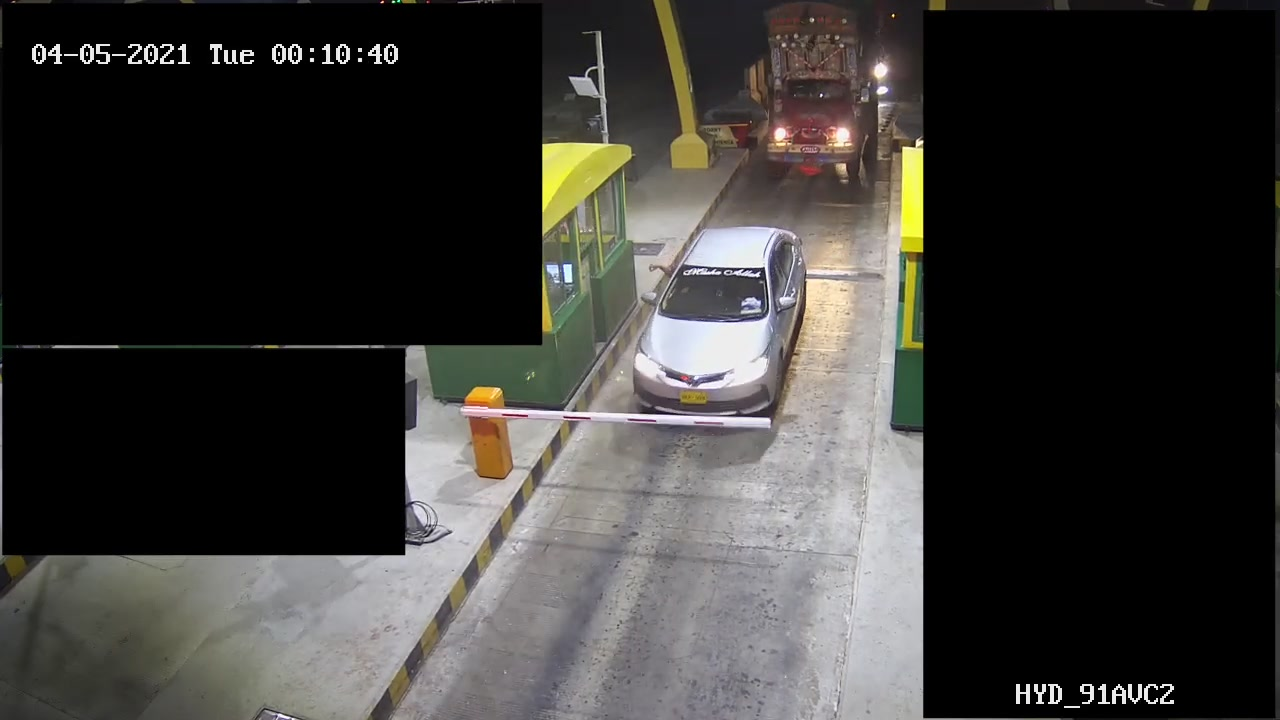F1: (613, 214, 828, 425)
